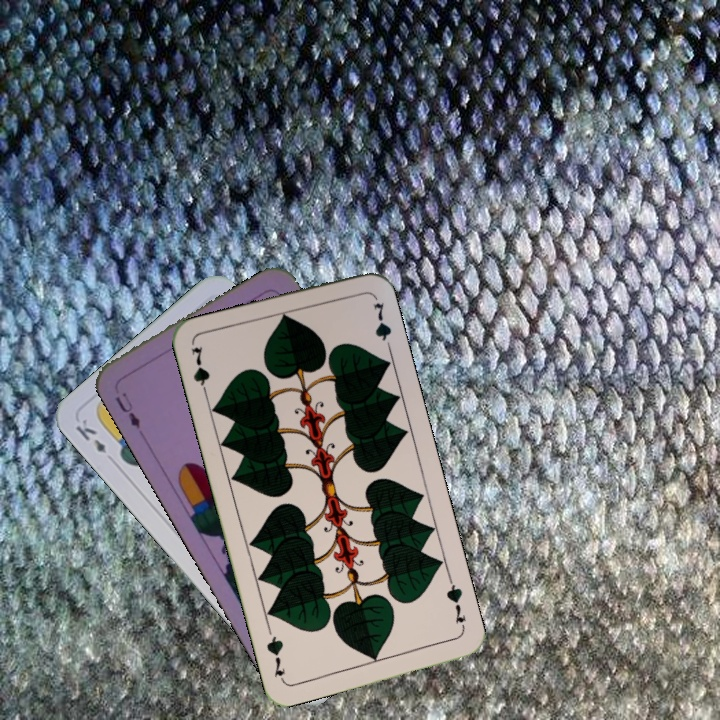EK: (71, 414, 109, 457)
EU: (110, 388, 143, 432)
G7: (187, 342, 213, 401), (442, 575, 469, 627)
